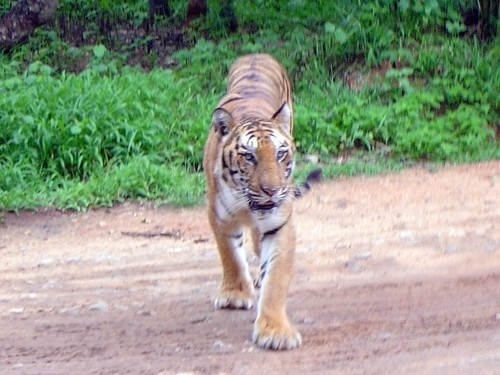tigre: (203, 53, 306, 353)
